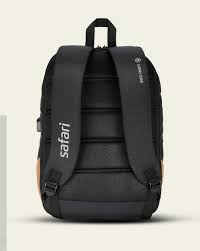backpack: (35, 17, 164, 221)
